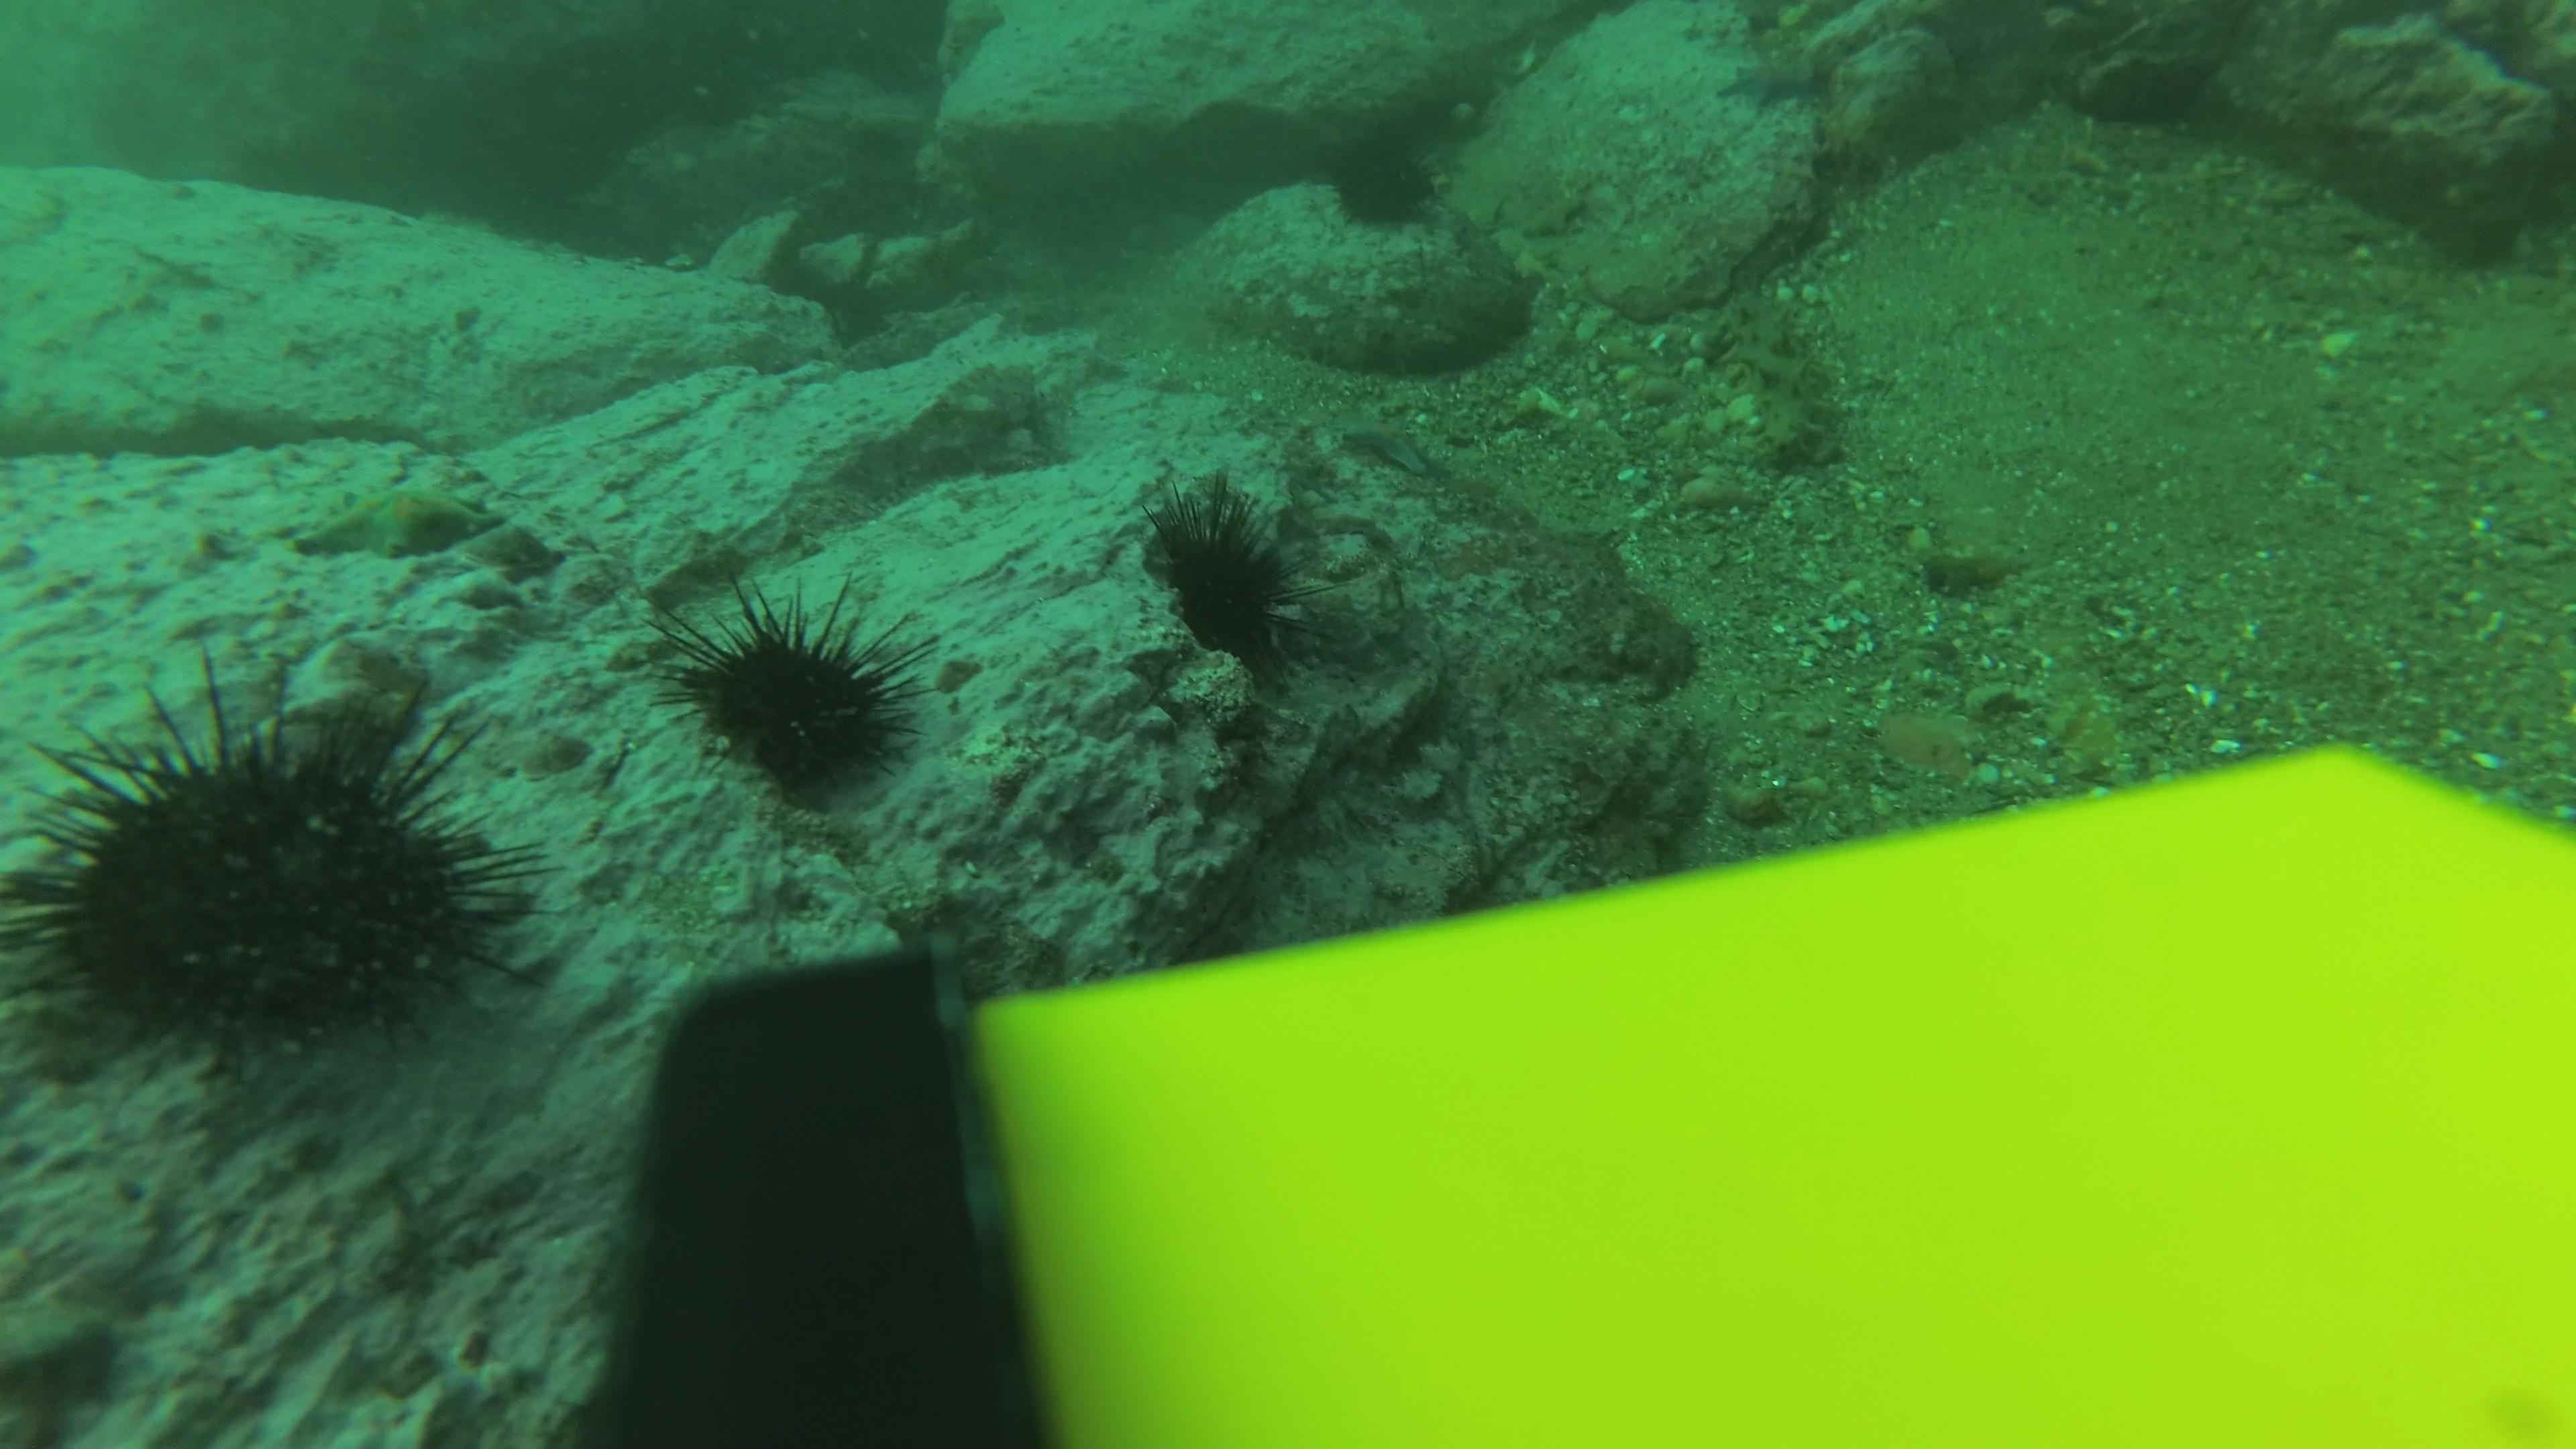echinus: (9, 656, 541, 1081), (655, 573, 932, 803), (1132, 474, 1318, 678), (1320, 124, 1447, 234)
holothurian: (1714, 285, 1854, 479)
starfish: (288, 479, 518, 566), (1330, 414, 1453, 481), (1714, 53, 1829, 113), (929, 0, 1010, 74)
